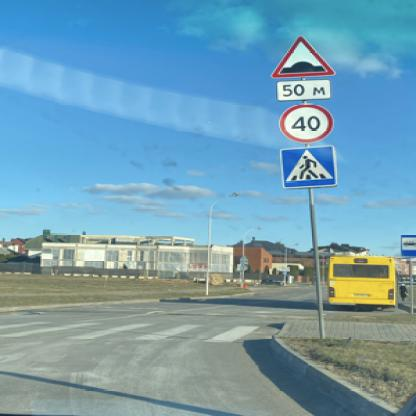crosswalk: (278, 145, 336, 188)
speedlimit: (278, 102, 332, 142)
